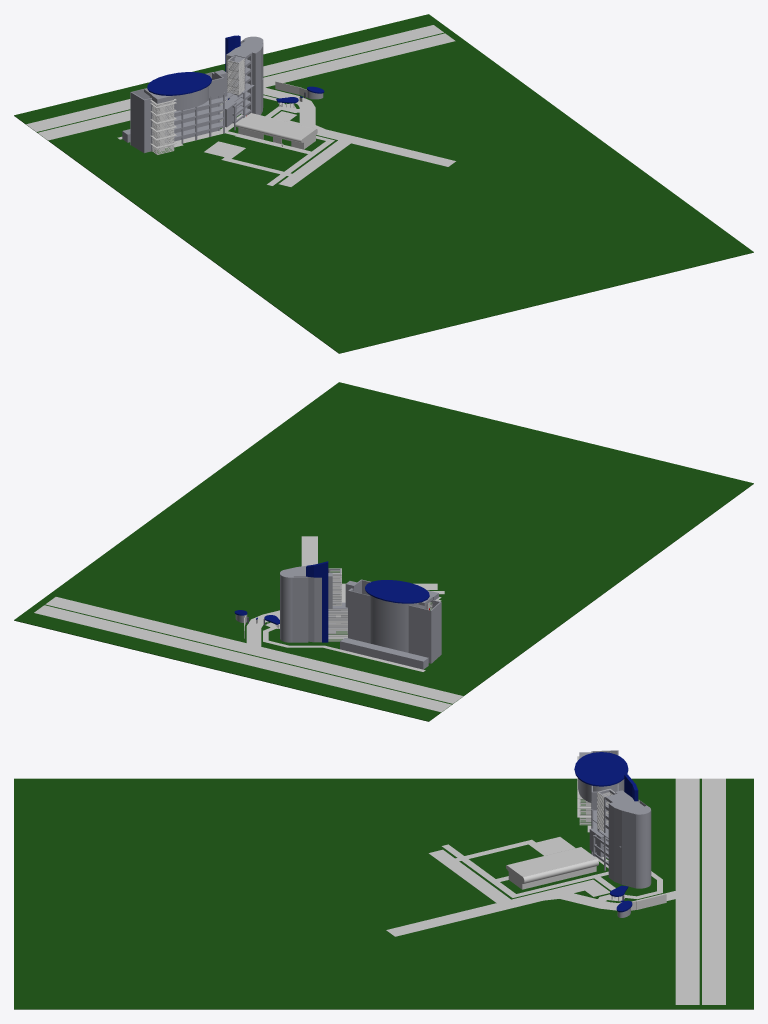
Rendered from PROGRESS1-WHOLECAMPUS.obj.
The picture shows the model from 3 angles, top to bottom: view 1: azimuth 30°, elevation 25°; view 2: azimuth 150°, elevation 25°; view 3: azimuth 270°, elevation 25°; orthographic projection. The views are drawn at different scales.
Visible parts, largest first — view 1: Part1, Part334, Part311, Part2, Union15, Part10, Part6, Union14; view 2: Part1, Part334, Part311, Union14, Union15, Part321, Part418; view 3: Part1, Part311, Part334, Part2, Union15, Part10, Part6, Part12, Part154, Part8, Part9, Union14.
Part boxes in pixels (bbox=[...]): Part1: bbox=[14, 14, 753, 353]; Part334: bbox=[26, 25, 443, 131]; Part311: bbox=[38, 33, 455, 140]; Part2: bbox=[273, 117, 455, 166]; Union15: bbox=[147, 72, 211, 95]; Part10: bbox=[237, 113, 316, 141]; Part6: bbox=[278, 140, 350, 186]; Union14: bbox=[149, 86, 208, 111]; Part1: bbox=[14, 382, 753, 721]; Part334: bbox=[34, 605, 451, 712]; Part311: bbox=[45, 597, 463, 703]; Union14: bbox=[367, 593, 426, 652]; Union15: bbox=[365, 580, 429, 603]; Part321: bbox=[340, 637, 428, 669]; Part418: bbox=[348, 590, 431, 622]; Part1: bbox=[14, 778, 753, 1009]; Part311: bbox=[675, 778, 699, 1004]; Part334: bbox=[702, 778, 725, 1004]; Part2: bbox=[386, 879, 601, 936]; Union15: bbox=[574, 752, 628, 786]; Part10: bbox=[507, 847, 596, 880]; Part6: bbox=[428, 849, 510, 902]; Part12: bbox=[520, 858, 598, 883]; Part154: bbox=[529, 837, 575, 855]; Part8: bbox=[441, 844, 515, 895]; Part9: bbox=[522, 866, 596, 889]; Union14: bbox=[578, 778, 624, 802].
Bounding box in the file's own units: 748 × 139 × 1014.
